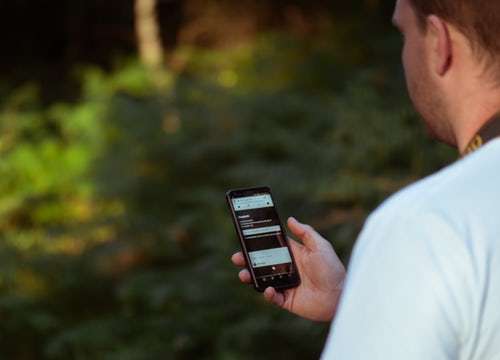phone: (222, 182, 301, 296)
